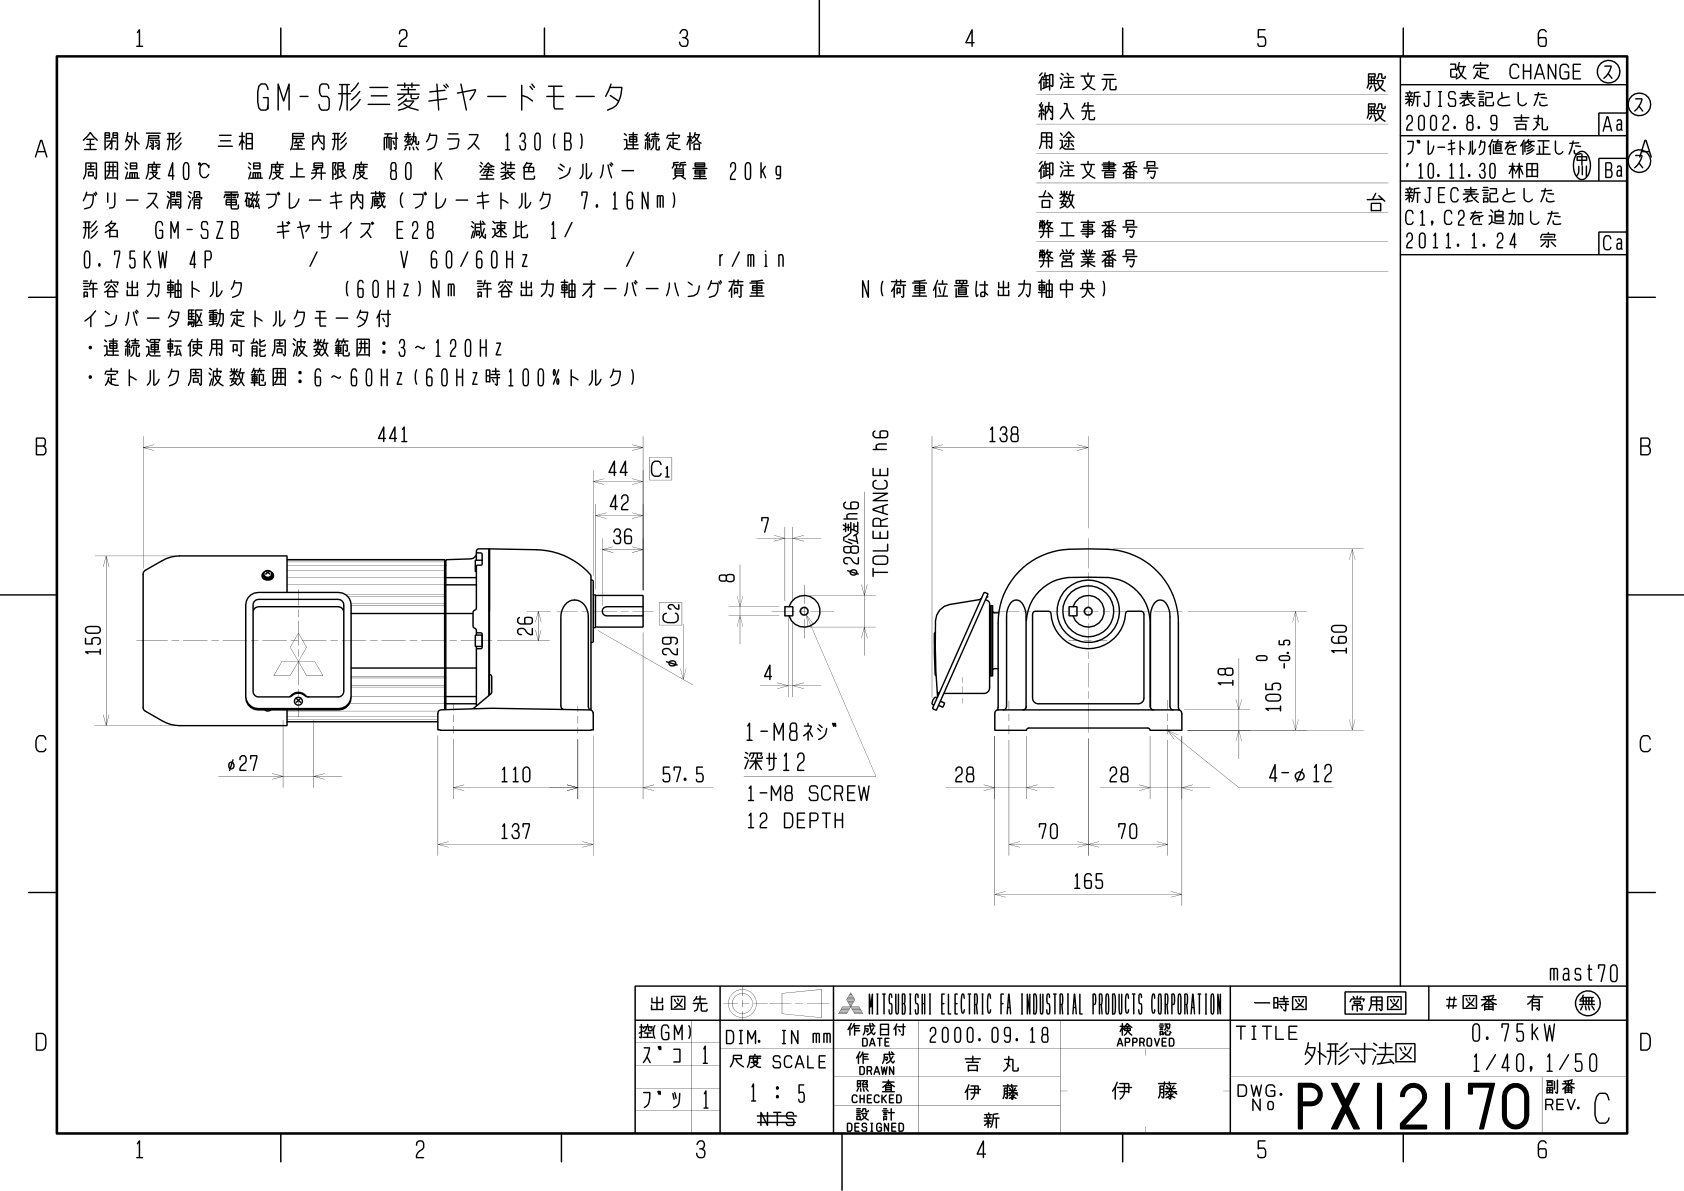GM_S_インバタ屋外＿三相_脚: (75, 402, 1385, 941)
